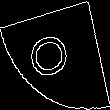O_E: (30, 28, 80, 82)
